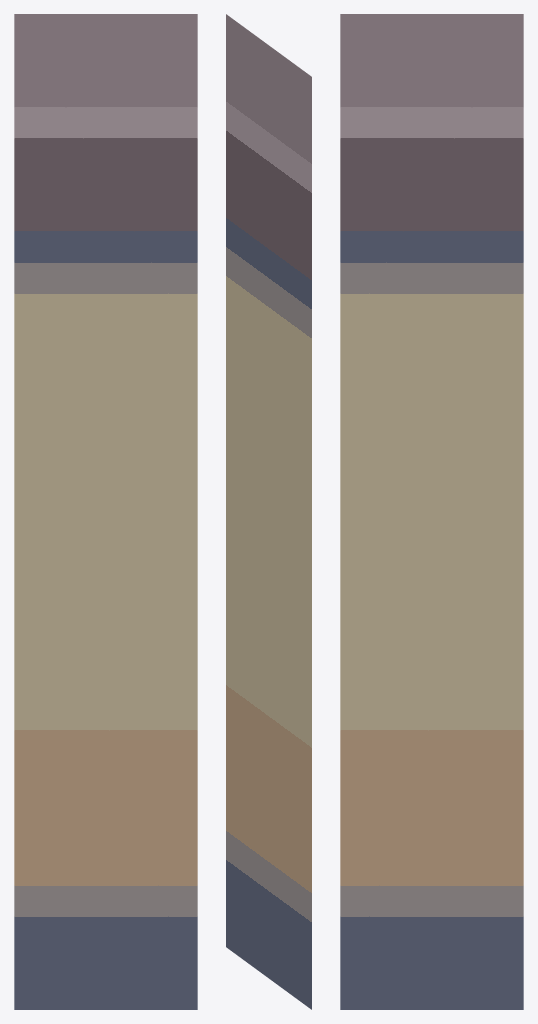
3 views of the same model, side by side, from view 1: azimuth 90°, elevation 25°; view 2: azimuth 210°, elevation 25°; view 3: azimuth 270°, elevation 25° (orthographic). The views are drawn at different scales.
Bounding box in the file's own units: 0 × 3 × 0.5.
Materials: 1 (1 with a texture image).
